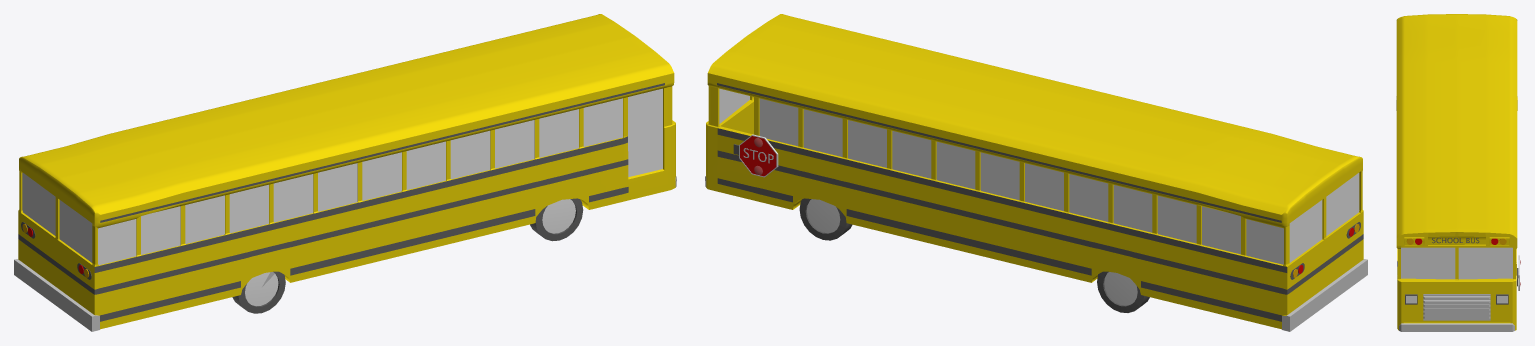
The model's file is School_Bus.fbx.
3 views of the same model, side by side, from view 1: azimuth 30°, elevation 25°; view 2: azimuth 150°, elevation 25°; view 3: azimuth 270°, elevation 25° (orthographic). The views are drawn at different scales.
Visible parts, largest first — view 1: Bus, Glass1, Wheel3, Wheel2; view 2: Bus, Glass1, Wheel4, Wheel1; view 3: Bus, Glass1.
Boxes of the visible parts, x1,y1,x2,y2 form: Bus: (14, 14, 676, 331); Glass1: (22, 88, 662, 265); Wheel3: (530, 198, 583, 241); Wheel2: (232, 271, 285, 313); Bus: (705, 14, 1367, 331); Glass1: (719, 88, 1359, 264); Wheel4: (799, 198, 852, 240); Wheel1: (1097, 271, 1149, 312); Bus: (1396, 14, 1520, 331); Glass1: (1401, 247, 1512, 279).
Size of the model in its own units: 10.74 by 2.65 by 2.52.
